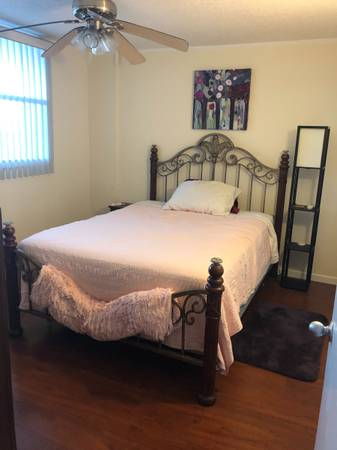bed: (15, 161, 280, 382)
